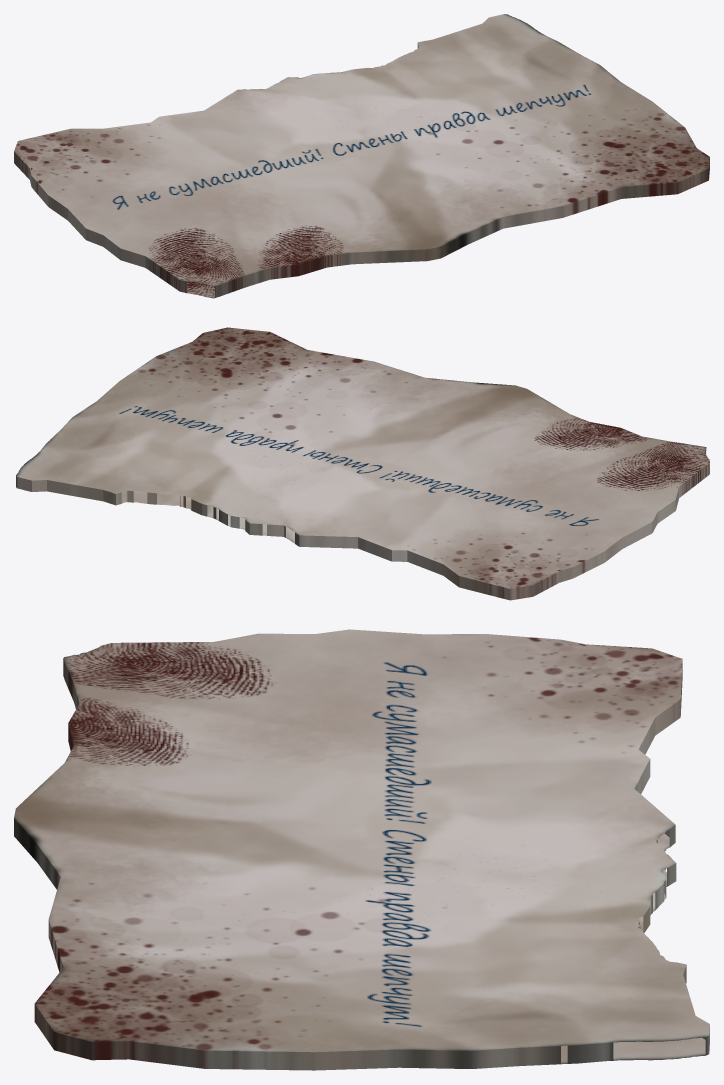
File: A_note_to_the_third_level.fbx
3 views of the same model, one above another, from view 1: azimuth 30°, elevation 25°; view 2: azimuth 150°, elevation 25°; view 3: azimuth 270°, elevation 25° (orthographic). The views are drawn at different scales.
Visible parts, largest first — view 1: A_note_to_the_third_level; view 2: A_note_to_the_third_level; view 3: A_note_to_the_third_level.
Boxes of the visible parts, x1=… form: A_note_to_the_third_level: x1=14, y1=14, x2=709, y2=298; A_note_to_the_third_level: x1=16, y1=327, x2=709, y2=600; A_note_to_the_third_level: x1=14, y1=629, x2=709, y2=1070.
Bounding box in the file's own units: 50.98 × 1.03 × 35.47.
